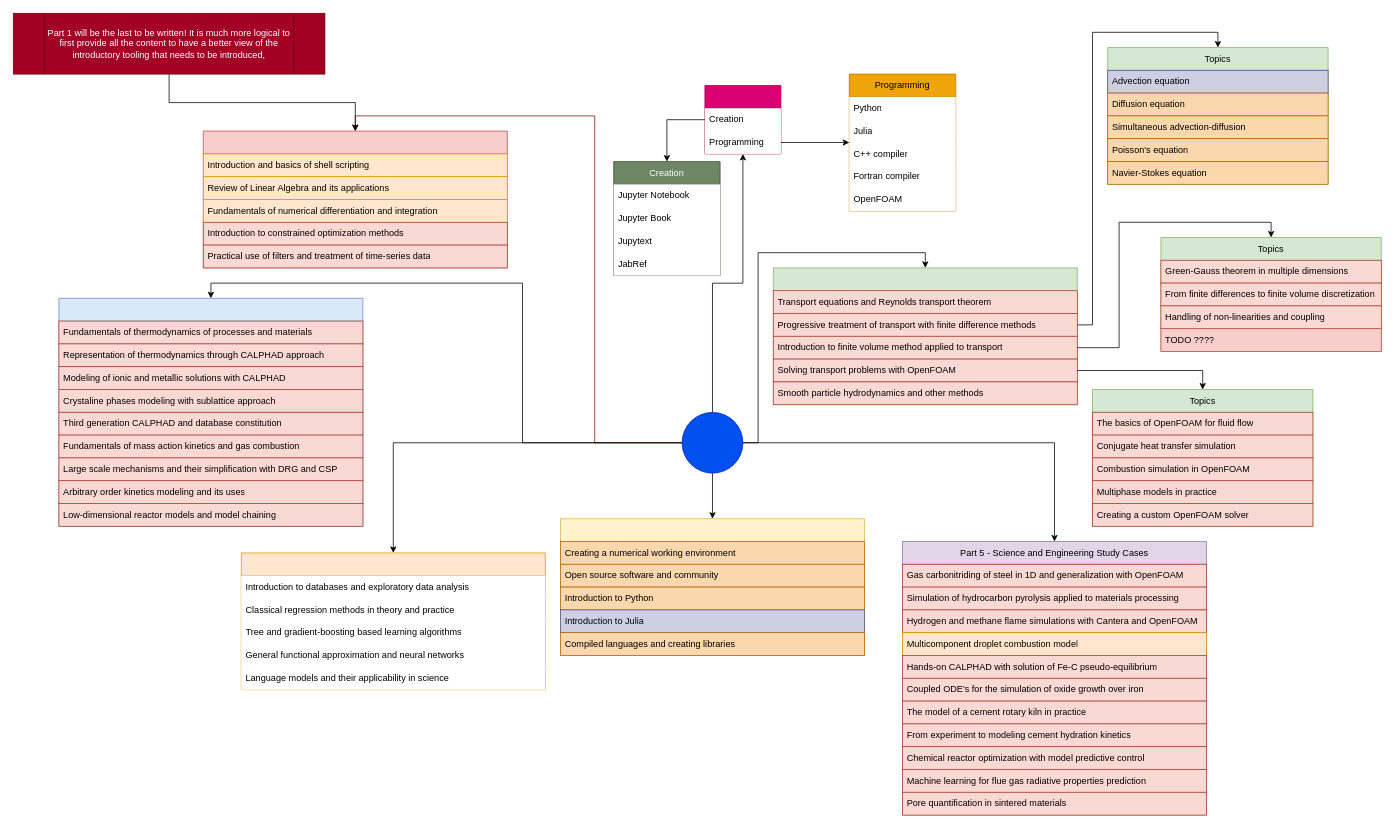
This 1395x828 diagram has some shape labels left out. Each missing label, with the box of its shape:
Annexes: (560, 518, 864, 656)
Book: (681, 412, 743, 473)
Part 1 - Computation for Science and Engineering: (203, 130, 507, 268)
Part 2 - Thermodynamics and Kinetics for Processes and Materials: (58, 298, 363, 526)
Part 3 - Introduction to Computational Transport Phenomena: (773, 267, 1077, 405)
Part 4 - Topics of Technical Data Science & Machine Learning: (241, 552, 545, 690)
Tools: (704, 85, 781, 154)
